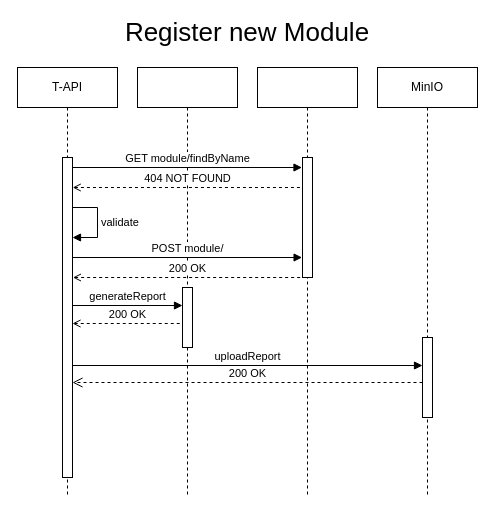
This 495x515 diagram has some shape labels left out. The shapes that lost their labels are listed below. From the top down, each one's box as (x1, y1, x2, y2) in pixels, then its label:
(136, 66, 238, 498): ReportGenerator (sbom-generator)
(256, 66, 358, 498): AI-Cockpit
